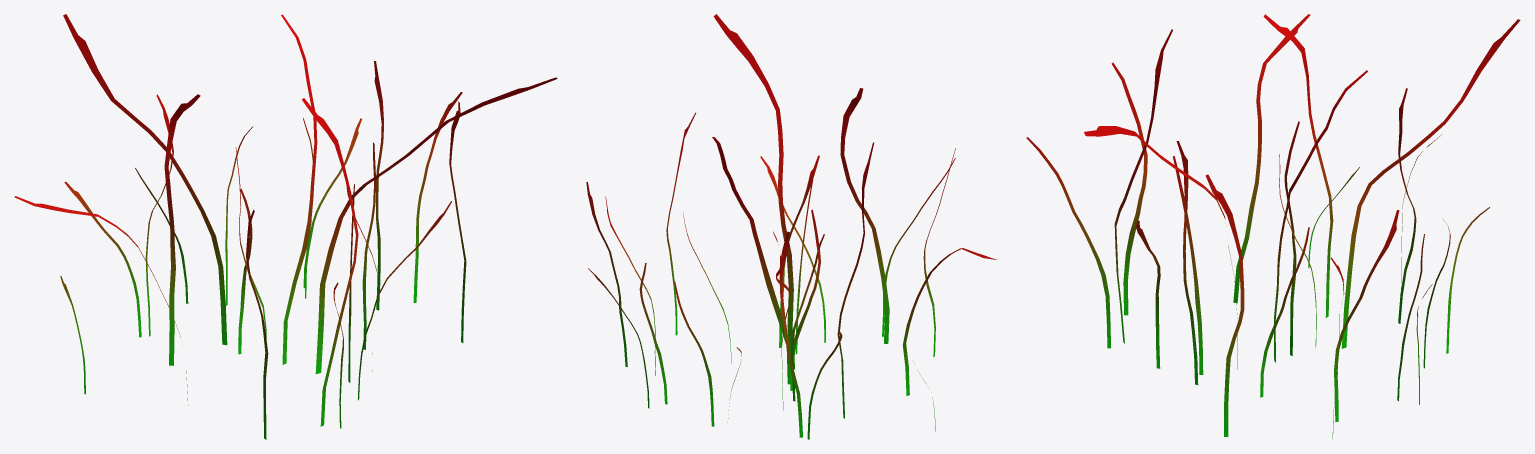
File: Cotton Grass_LOD1_Var8_wlykecdia.fbx
3 renders of one model, left to right at view 1: azimuth 30°, elevation 25°; view 2: azimuth 150°, elevation 25°; view 3: azimuth 270°, elevation 25°, orthographic. The views are drawn at different scales.
Parts seen in each view (by area): view 1: _c736_Var8_LOD1; view 2: _c736_Var8_LOD1; view 3: _c736_Var8_LOD1.
Part boxes in pixels (bbox=[...]): _c736_Var8_LOD1: bbox=[14, 14, 557, 439]; _c736_Var8_LOD1: bbox=[586, 14, 997, 439]; _c736_Var8_LOD1: bbox=[1026, 14, 1520, 438].
Bounding box in the file's own units: 23.87 × 15.49 × 21.77.
